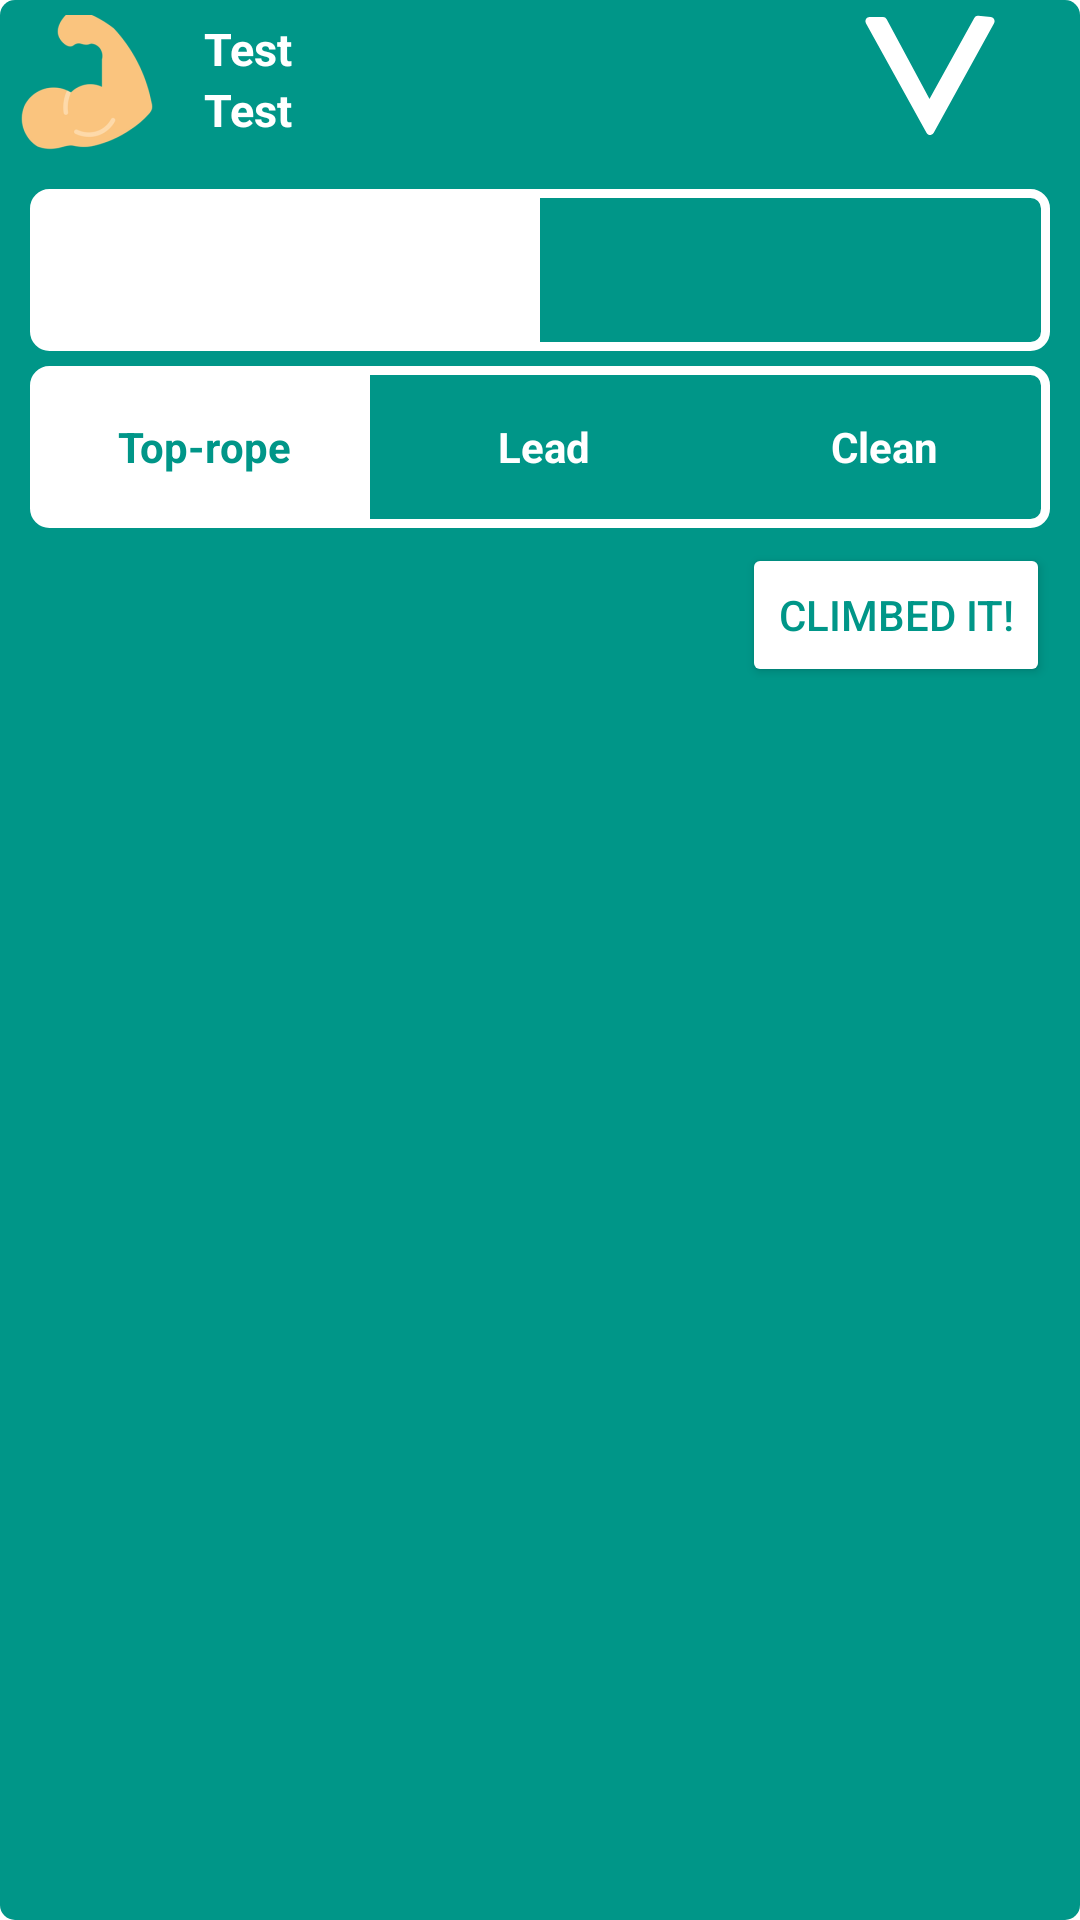

Icon bounding boxes for this 1080px×1920px phone screenshot, format (x1, y1, x2, y2):
muscle: (21, 15, 153, 149)
